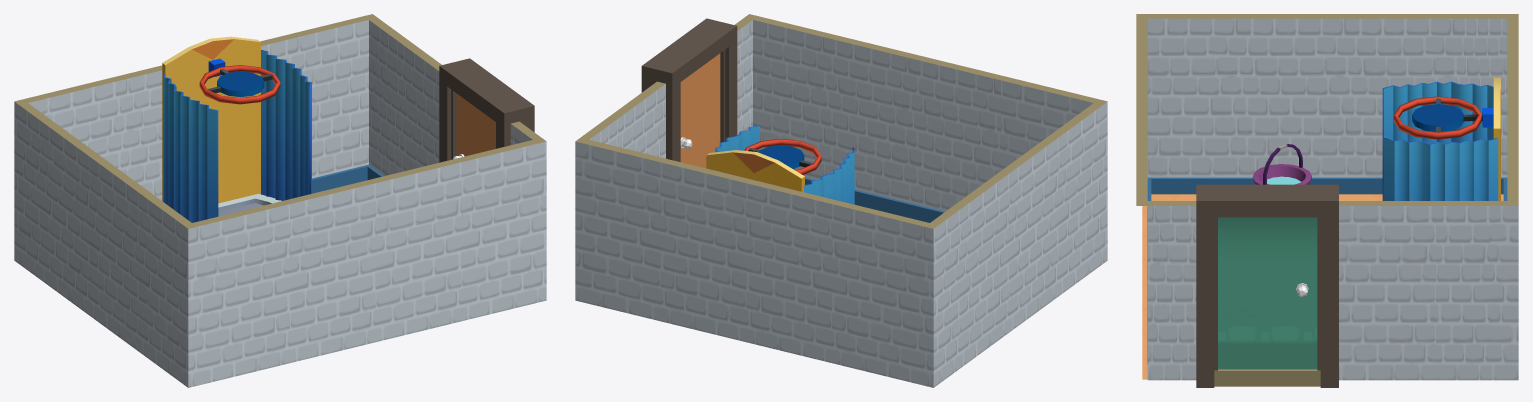
The model's file is Bathroom.fbx.
The picture shows the model from 3 angles, left to right: view 1: azimuth 30°, elevation 25°; view 2: azimuth 150°, elevation 25°; view 3: azimuth 270°, elevation 25°; orthographic projection. The views are drawn at different scales.
Visible parts, largest first — view 1: Bathroom Walls, Bath Area lvl, Bathroom Door Boundary, Bathroom Door; view 2: Bathroom Walls, Bathroom Door Boundary, Bath Area lvl, Bathroom Door; view 3: Bathroom Walls, Bathroom Wall Peice, Bath Area lvl, Bathroom Door Boundary, Bathroom Floor, Bucket.
Part boxes in pixels (x1,y1,x2,y2): Bathroom Walls: [14, 14, 546, 387]; Bath Area lvl: [162, 36, 311, 222]; Bathroom Door Boundary: [439, 58, 534, 162]; Bathroom Door: [453, 94, 495, 159]; Bathroom Walls: [575, 14, 1107, 387]; Bathroom Door Boundary: [641, 18, 737, 161]; Bath Area lvl: [706, 125, 854, 204]; Bathroom Door: [680, 53, 720, 168]; Bathroom Walls: [1136, 14, 1518, 380]; Bathroom Wall Peice: [1214, 217, 1320, 386]; Bath Area lvl: [1382, 77, 1500, 200]; Bathroom Door Boundary: [1196, 184, 1338, 387]; Bathroom Floor: [1142, 194, 1503, 379]; Bucket: [1252, 144, 1311, 184].
Bounding box in the file's own units: 5.85 × 2.74 × 4.7.
